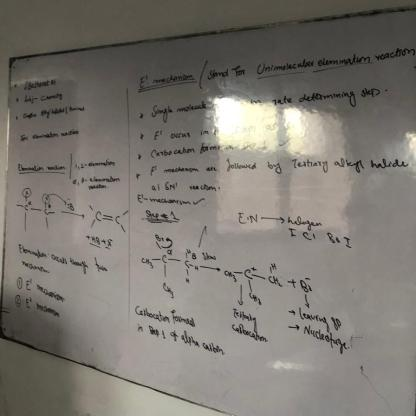Handwritten text: (145, 79, 389, 125), (201, 37, 416, 86), (161, 152, 411, 178), (167, 119, 291, 142), (145, 138, 261, 161), (128, 301, 204, 331), (20, 72, 63, 92)
Whiteboard: (0, 3, 416, 416)
